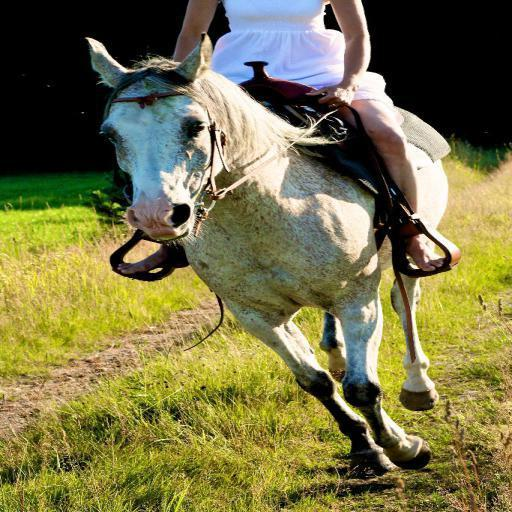horse: (82, 32, 450, 476)
